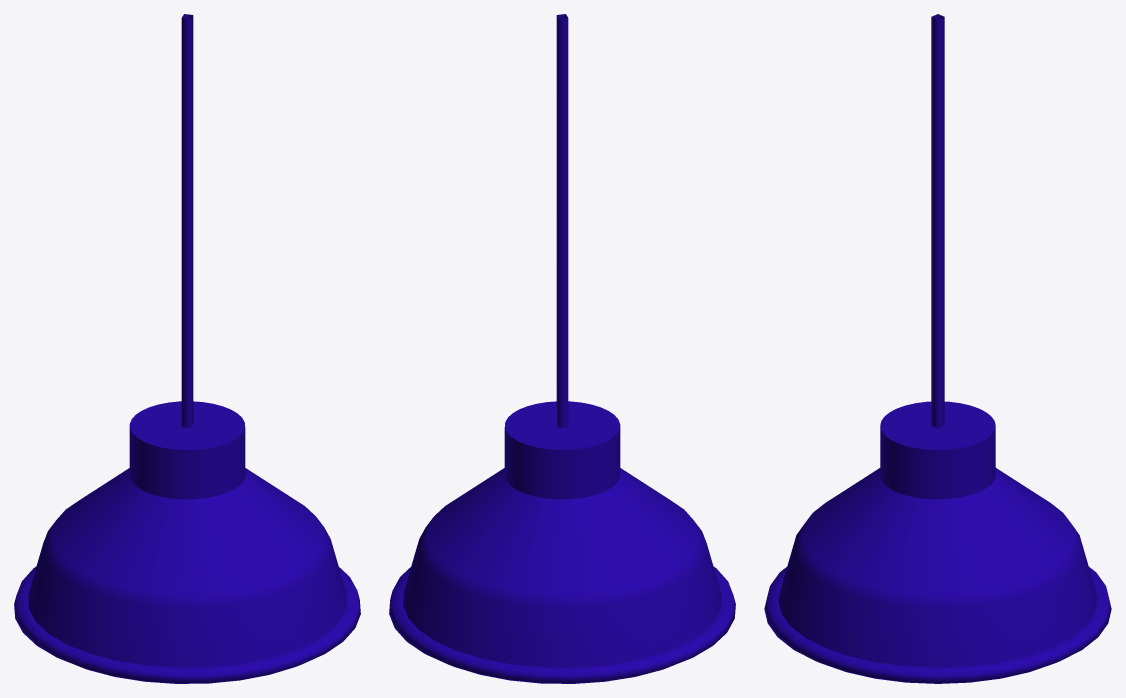
Rendered from LampCeiling_01.FBX.
3 views of the same model, side by side, from view 1: azimuth 30°, elevation 25°; view 2: azimuth 150°, elevation 25°; view 3: azimuth 270°, elevation 25° (orthographic).
Visible parts, largest first — view 1: SM_LampCeilingB_01_LOD0; view 2: SM_LampCeilingB_01_LOD0; view 3: SM_LampCeilingB_01_LOD0.
Part boxes in pixels (x1,y1,x2,y2): SM_LampCeilingB_01_LOD0: (14,14,360,683); SM_LampCeilingB_01_LOD0: (389,14,735,683); SM_LampCeilingB_01_LOD0: (764,14,1111,683).
Bounding box in the file's own units: 52.66 × 100 × 52.66.
